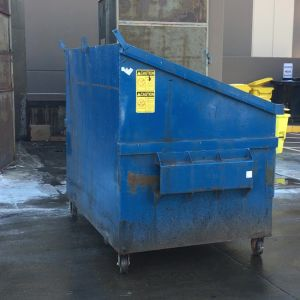Dumpster: (56, 31, 287, 277)
